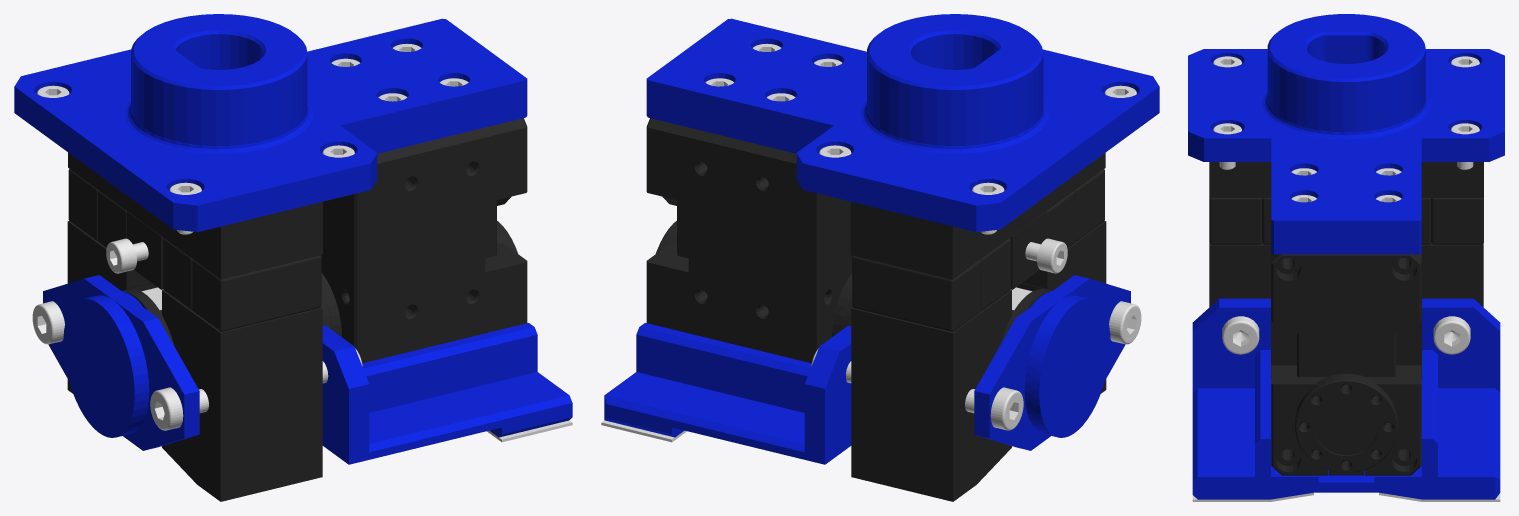
Rendered from ON-OFF-PAW-Alumínio_MEF.148.dae.
3 views of the same model, side by side, from view 1: azimuth 30°, elevation 25°; view 2: azimuth 150°, elevation 25°; view 3: azimuth 270°, elevation 25° (orthographic). The views are drawn at different scales.
Visible parts, largest first — view 1: tmp_export_ON-OFF-PAW-Alumínio_MEF.148.000.001.002.003; view 2: tmp_export_ON-OFF-PAW-Alumínio_MEF.148.000.001.002.003; view 3: tmp_export_ON-OFF-PAW-Alumínio_MEF.148.000.001.002.003.
Boxes of the visible parts, bbox=[...] form: tmp_export_ON-OFF-PAW-Alumínio_MEF.148.000.001.002.003: bbox=[14, 14, 572, 501]; tmp_export_ON-OFF-PAW-Alumínio_MEF.148.000.001.002.003: bbox=[601, 14, 1159, 501]; tmp_export_ON-OFF-PAW-Alumínio_MEF.148.000.001.002.003: bbox=[1188, 14, 1504, 501].
Bounding box in the file's own units: 79 × 60 × 70.75.
